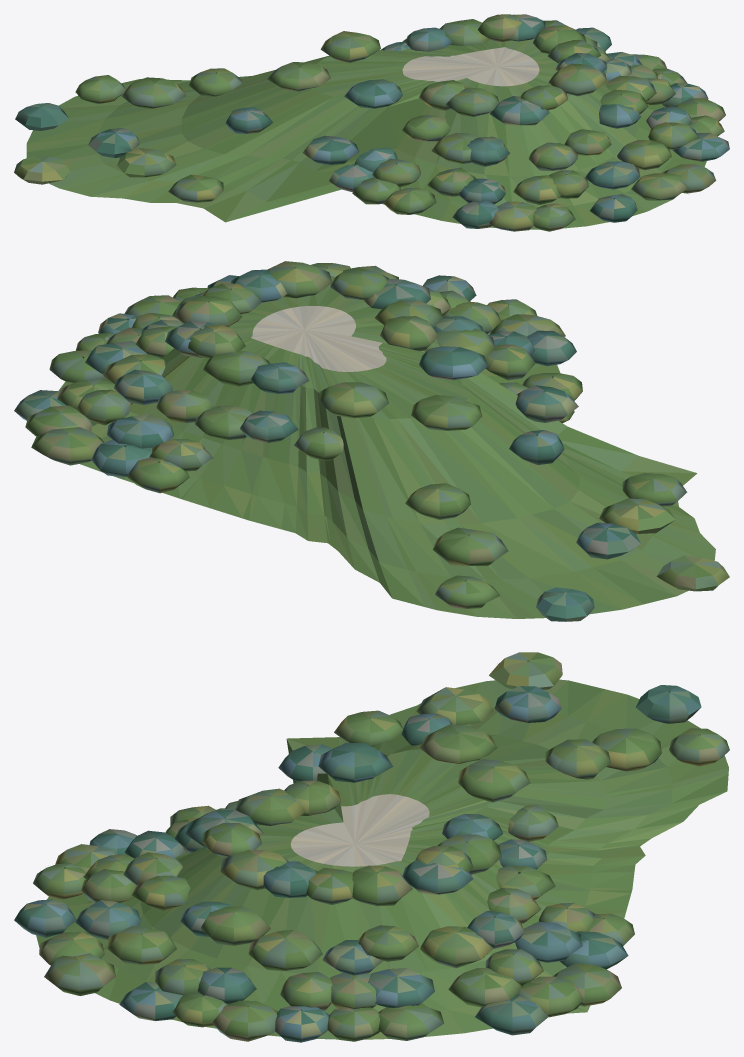
The model's file is HK_Terrain_Hikone.glb.
3 views of the same model, one above another, from view 1: azimuth 30°, elevation 25°; view 2: azimuth 150°, elevation 25°; view 3: azimuth 270°, elevation 25° (orthographic). The views are drawn at different scales.
Visible parts, largest first — view 1: HK_Terrain_Hikone; view 2: HK_Terrain_Hikone; view 3: HK_Terrain_Hikone.
Boxes of the visible parts, x1=… form: HK_Terrain_Hikone: x1=14, y1=14, x2=729, y2=231; HK_Terrain_Hikone: x1=14, y1=261, x2=729, y2=621; HK_Terrain_Hikone: x1=14, y1=652, x2=729, y2=1042.
Size of the model in its own units: 483 by 62.9 by 380.
